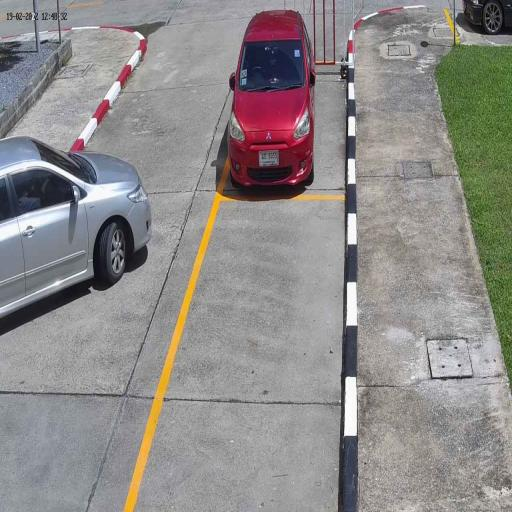car: (0, 134, 154, 318), (226, 9, 318, 192)
